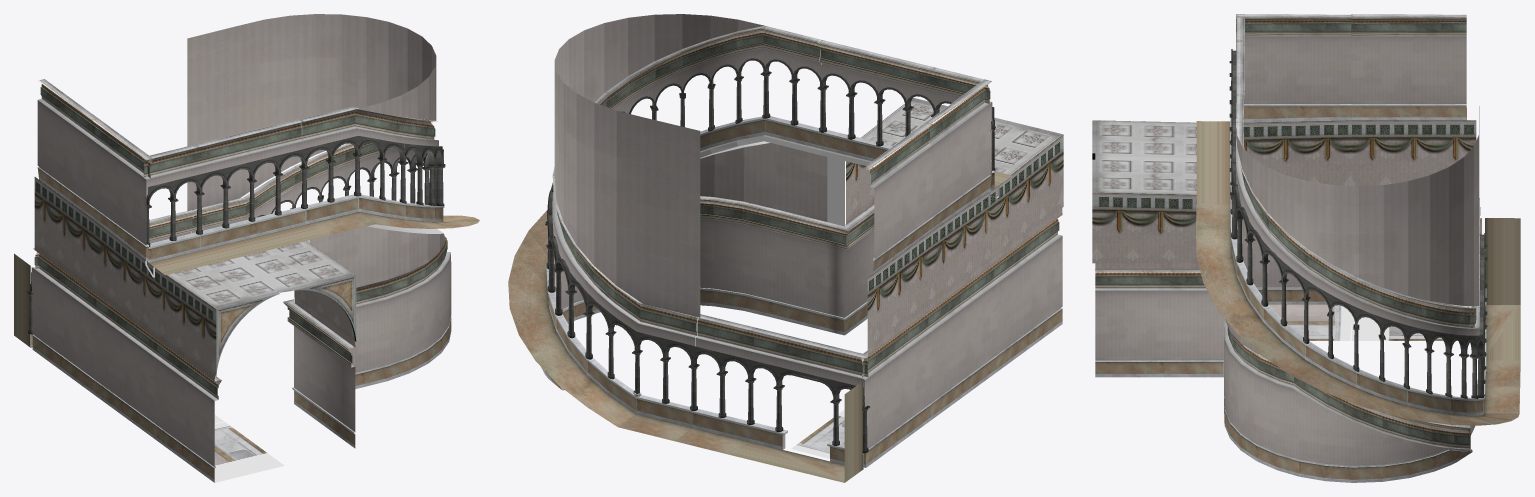
Rendered from Star.obj.
The picture shows the model from 3 angles, left to right: view 1: azimuth 30°, elevation 25°; view 2: azimuth 150°, elevation 25°; view 3: azimuth 270°, elevation 25°; orthographic projection. The views are drawn at different scales.
Parts seen in each view (by area): view 1: Object010, Object008, Object012; view 2: Object010, Object008, Object012; view 3: Object010, Object008, Object012.
Boxes of the visible parts, bbox=[...] form: Object010: bbox=[14, 14, 479, 482]; Object008: bbox=[34, 177, 356, 381]; Object012: bbox=[26, 136, 445, 334]; Object010: bbox=[508, 14, 1062, 482]; Object008: bbox=[845, 97, 1063, 356]; Object012: bbox=[545, 58, 995, 452]; Object010: bbox=[1095, 14, 1520, 482]; Object008: bbox=[1092, 120, 1476, 270]; Object012: bbox=[1229, 49, 1487, 398].
Size of the model in its own units: 21.79 by 15.28 by 20.47.
Materials: 3 (3 with a texture image).
